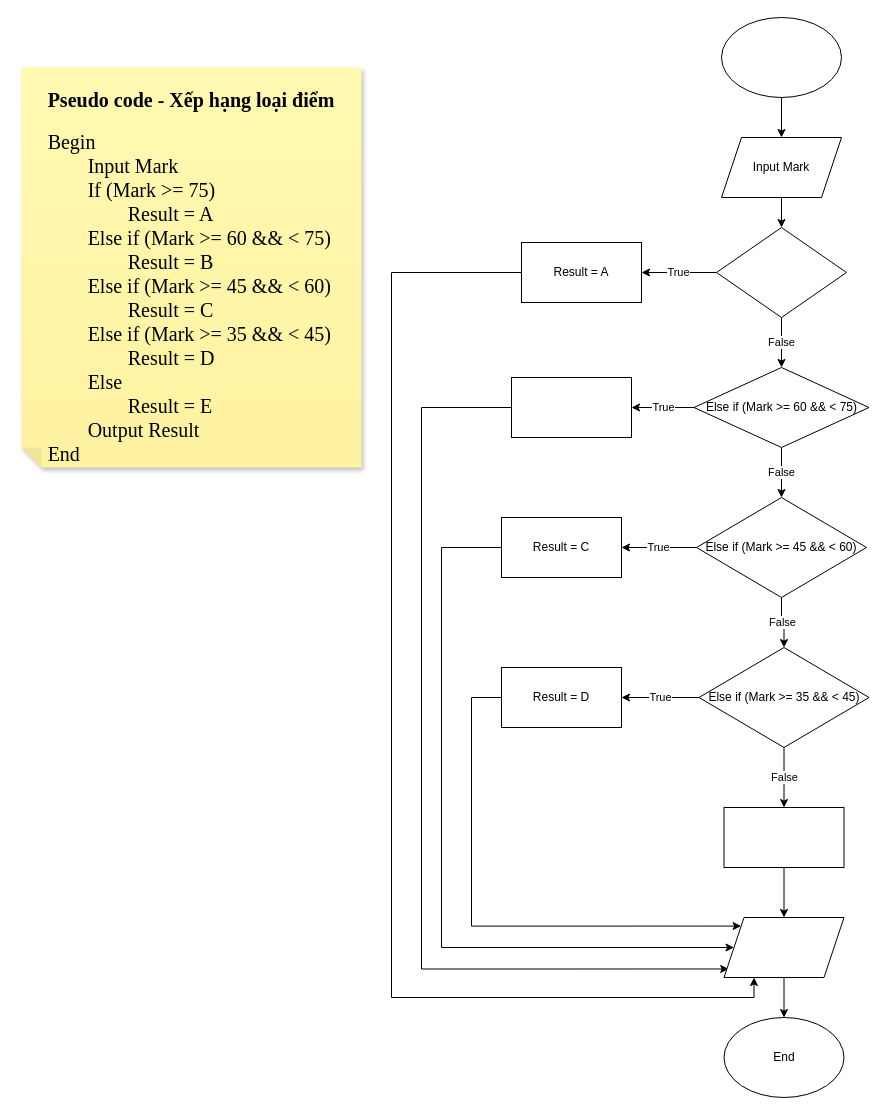
Some shapes in this 886 by 1115 pixel diagram are drawn without their labels. The shapes that lost their labels are listed below. From the top down, each one's centre as x and y in pixels, then its label:
the point at 781,57: Beign
the point at 781,272: If (Mark >= 75)
the point at 571,407: Result = B
the point at 783,837: Result = E
the point at 783,947: Output Result
